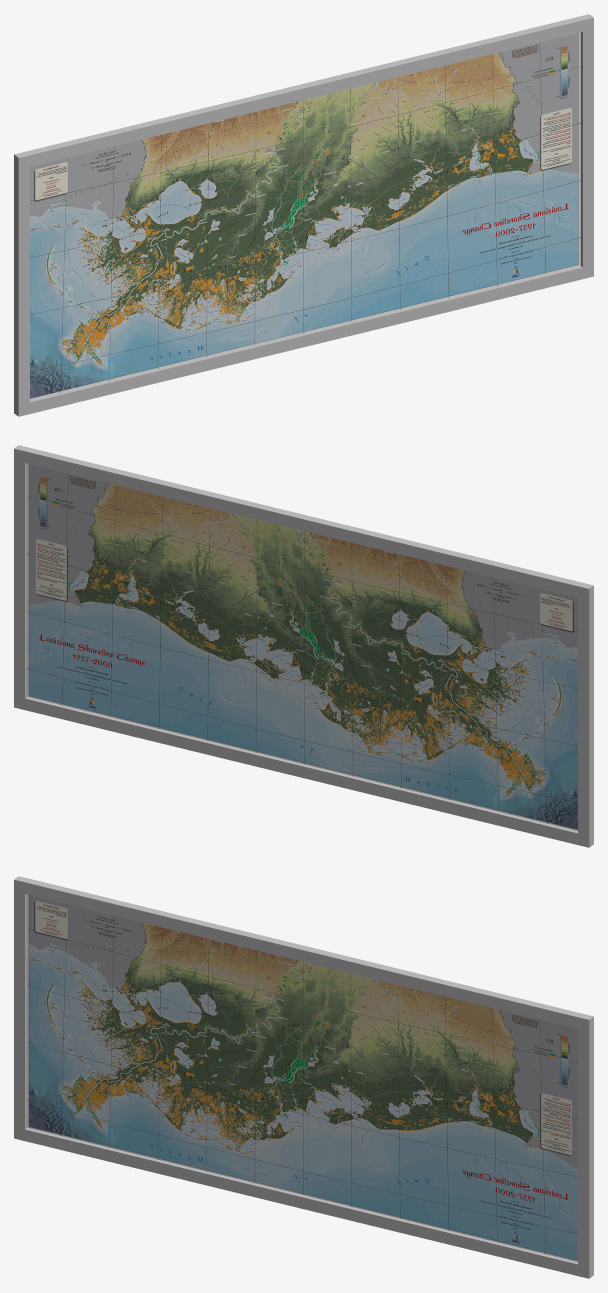
File: Map_D.fbx
The picture shows the model from 3 angles, top to bottom: view 1: azimuth 30°, elevation 25°; view 2: azimuth 150°, elevation 25°; view 3: azimuth 330°, elevation 25°; orthographic projection.
Visible parts, largest first — view 1: mesh_map_D, mesh_mapframe_D; view 2: mesh_map_D, mesh_mapframe_D; view 3: mesh_map_D, mesh_mapframe_D.
Boxes of the visible parts, x1,y1,x2,y2 form: mesh_map_D: (30, 32, 580, 399); mesh_mapframe_D: (14, 14, 593, 416); mesh_map_D: (27, 463, 577, 830); mesh_mapframe_D: (14, 445, 593, 847); mesh_map_D: (27, 894, 577, 1261); mesh_mapframe_D: (14, 876, 593, 1278).
Bounding box in the file's own units: 206 × 88.71 × 3.
